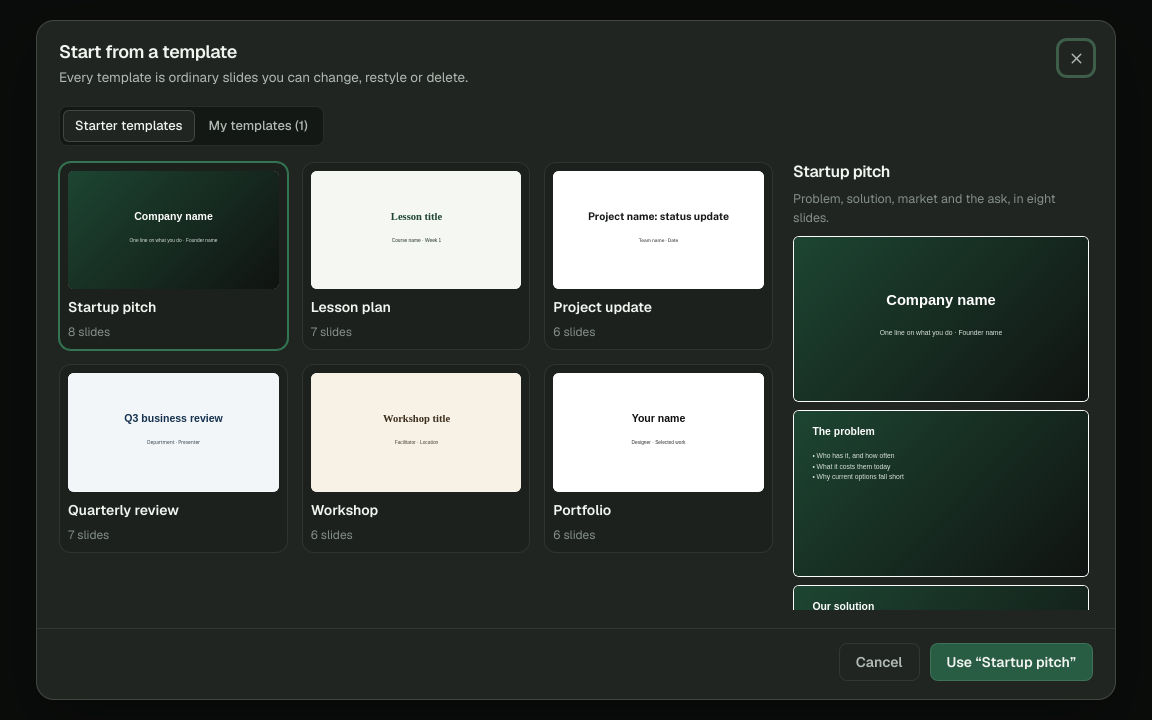
Test case: TemplateGallery › lists saved templates and deletes one
The width and height of the screenshot is (1152, 720).
Click the tab "My templates (1)". click: (258, 126)
box: [196, 110, 320, 142]
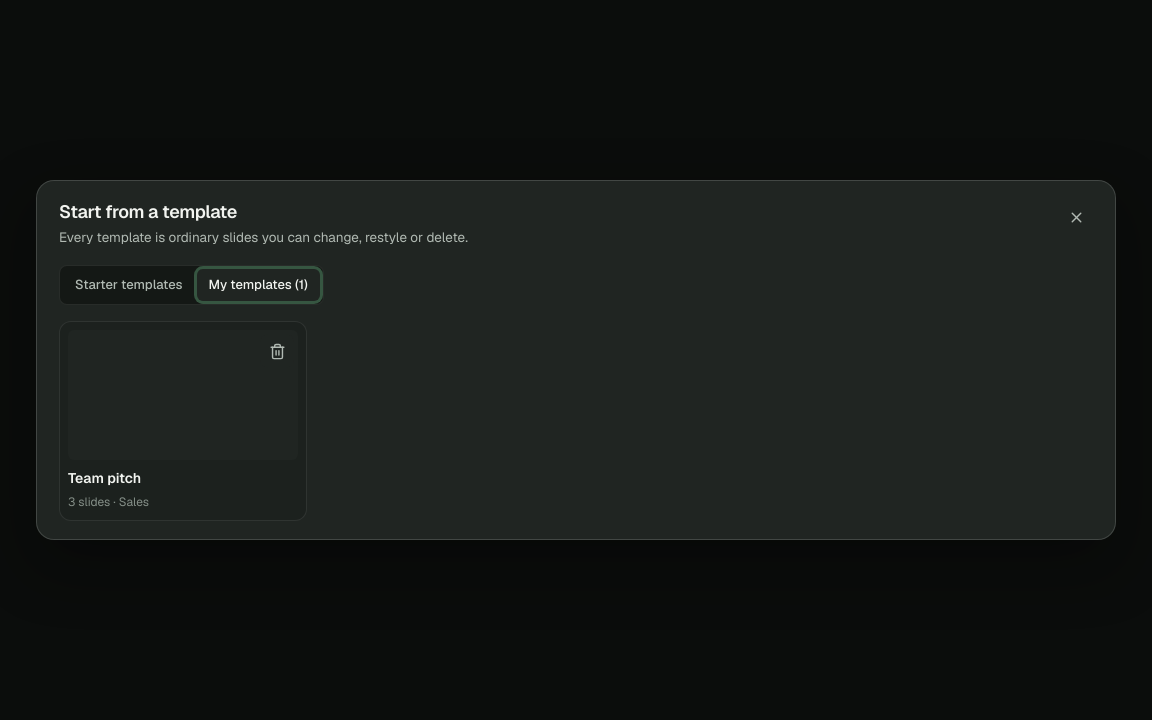
Click the button named "Delete template Team pitch". click: (277, 351)
box: [260, 334, 294, 368]
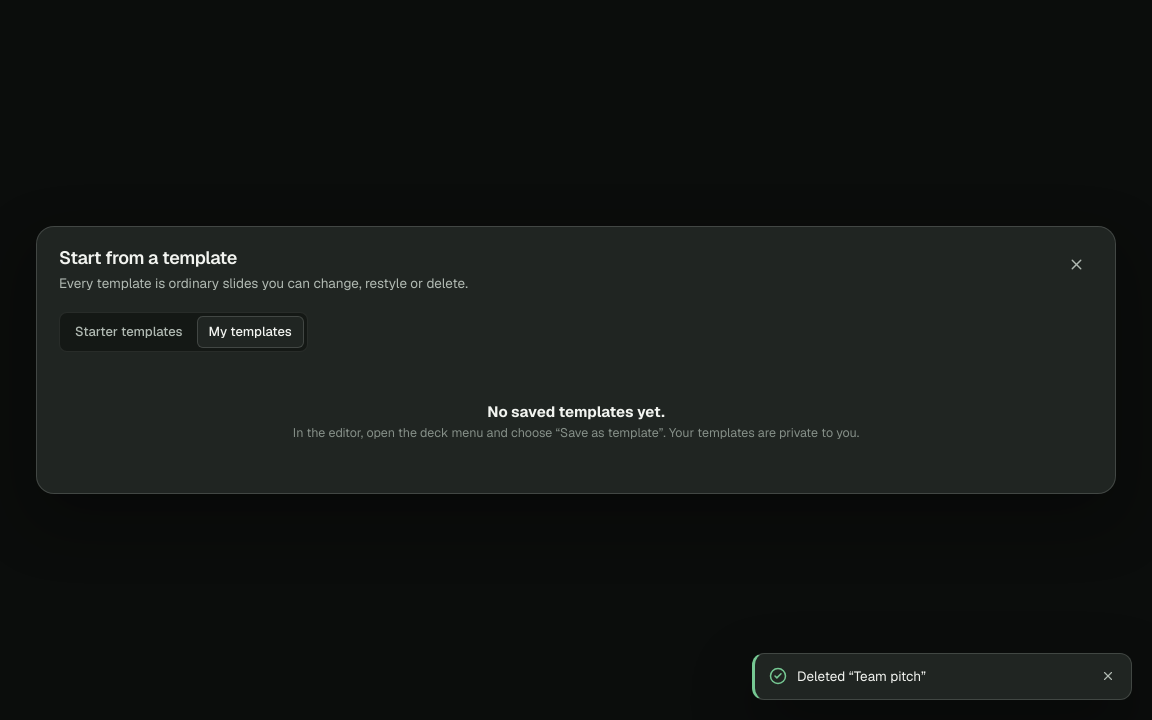
Now the text "No saved templates yet." is shown, box [487, 402, 665, 421]
